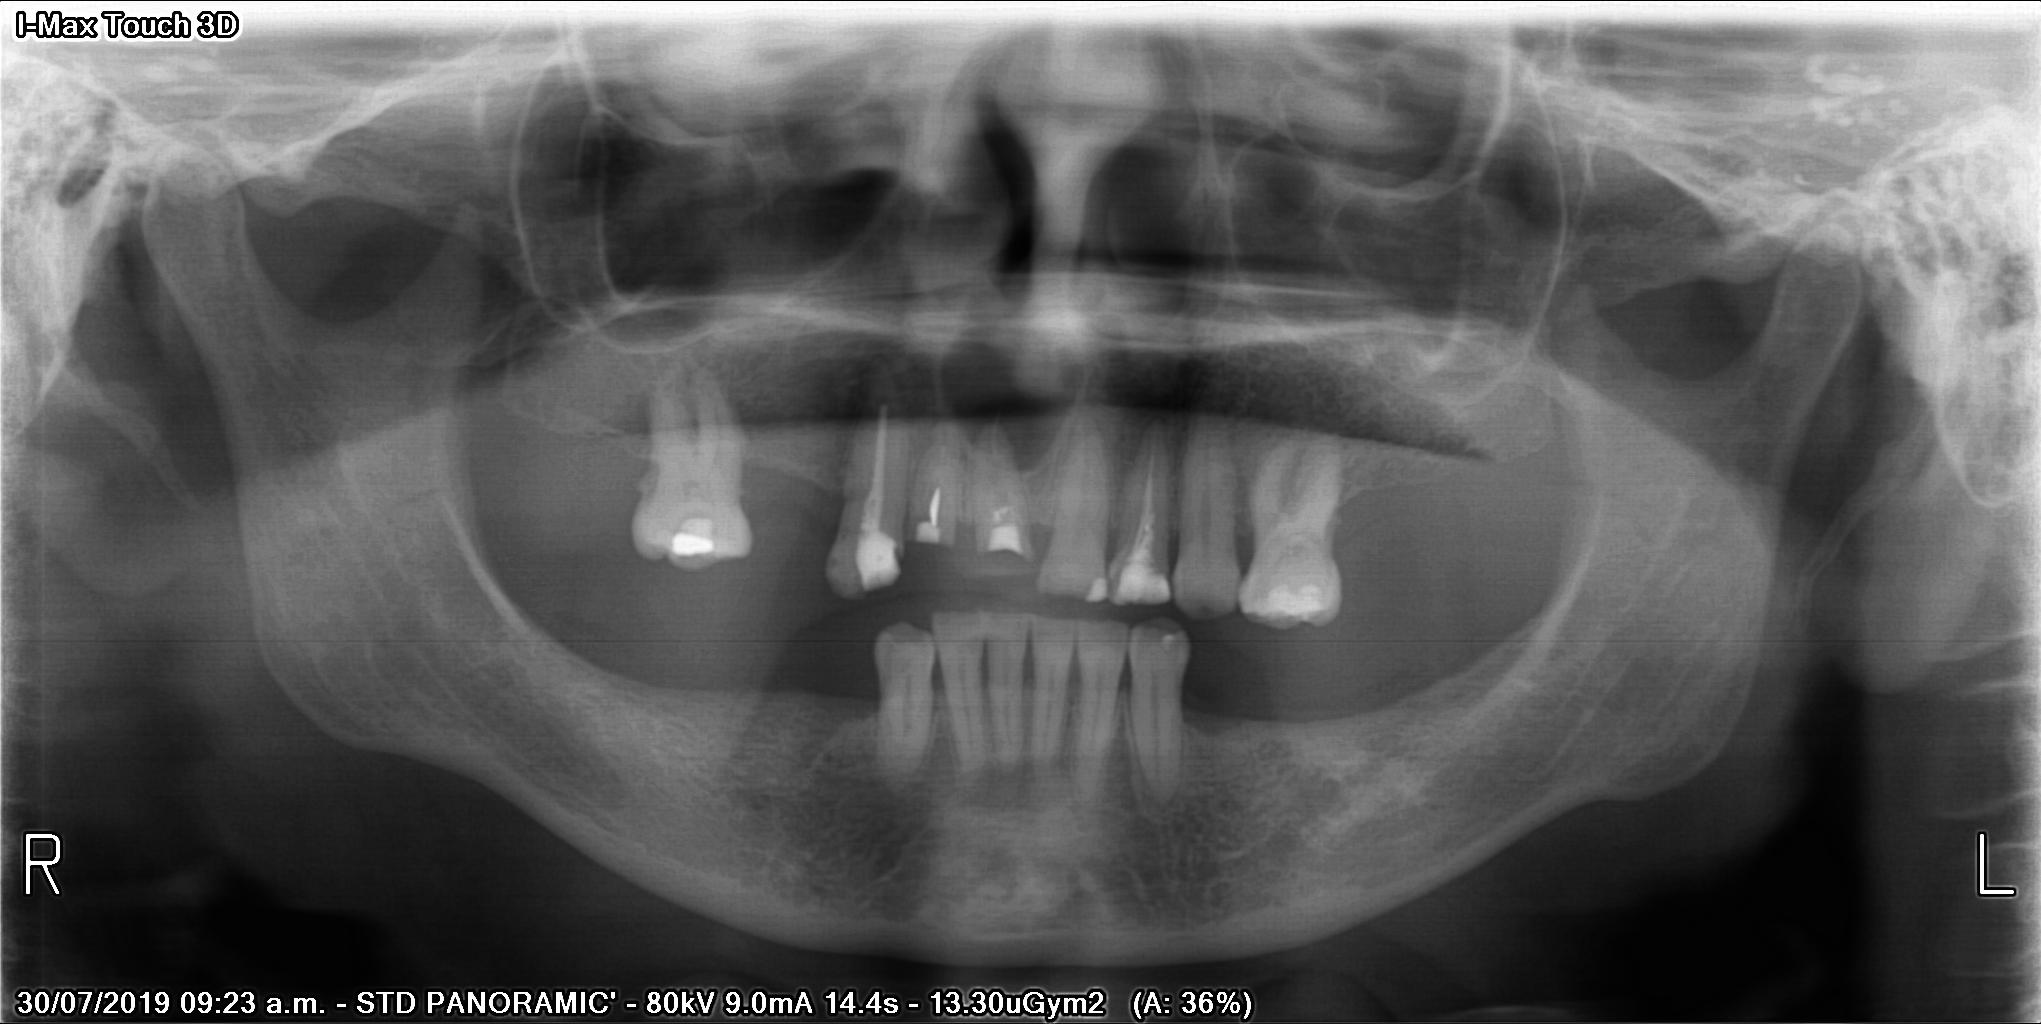Çürük: (833, 502, 915, 600), (1119, 479, 1179, 611), (1238, 562, 1336, 639), (665, 505, 725, 564), (982, 499, 1030, 566), (915, 479, 955, 550), (1076, 564, 1118, 607)
